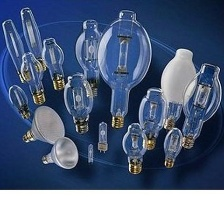light_bulb: (92, 5, 156, 131), (176, 58, 222, 153), (155, 46, 199, 132), (71, 15, 109, 102), (0, 17, 37, 87), (134, 85, 169, 152), (16, 4, 48, 74), (61, 69, 94, 136), (21, 101, 69, 147), (38, 32, 70, 92), (17, 50, 50, 106), (119, 119, 150, 176), (39, 135, 81, 171), (159, 125, 184, 172), (6, 82, 32, 122), (94, 118, 113, 156), (84, 141, 98, 168)
